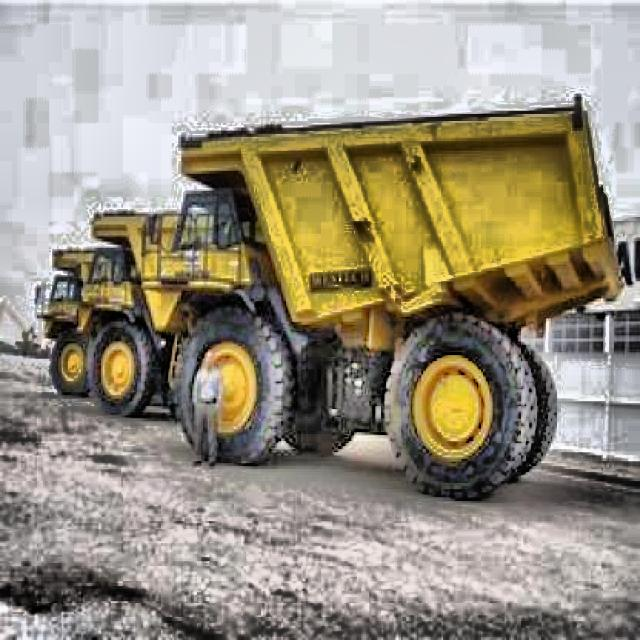dump_truck: (161, 93, 607, 494)
